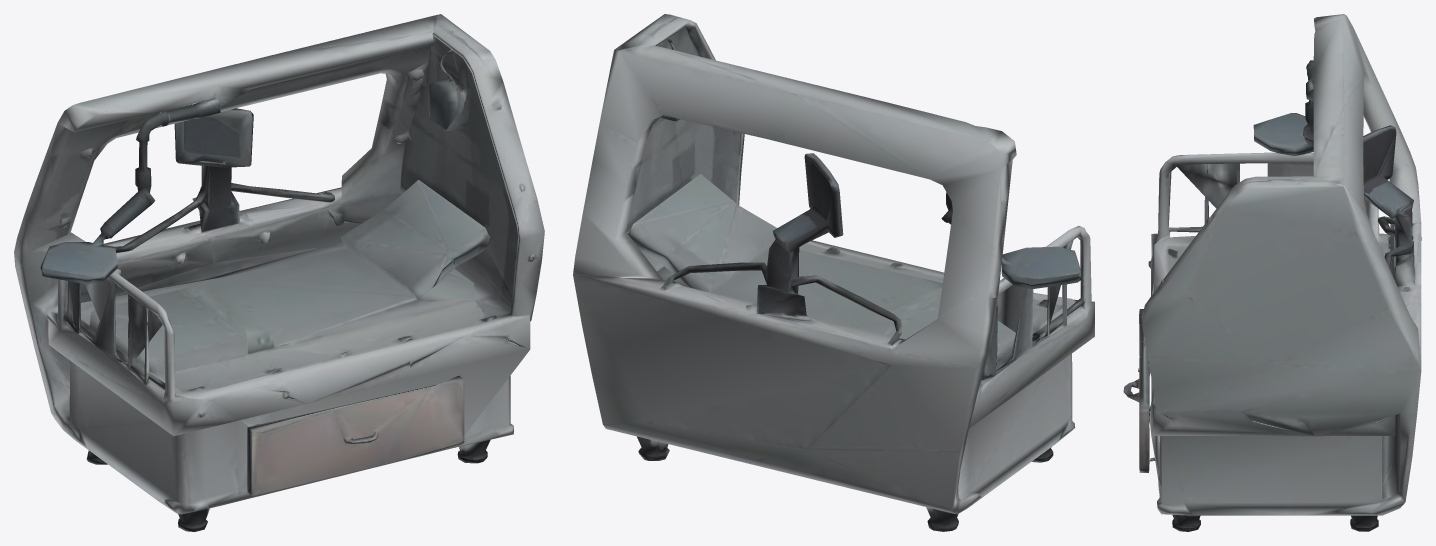
3 renders of one model, left to right at view 1: azimuth 30°, elevation 25°; view 2: azimuth 150°, elevation 25°; view 3: azimuth 270°, elevation 25°, orthographic. The views are drawn at different scales.
Size of the model in its own units: 1.9 by 1.6 by 1.18.
1 material, 1 textured.
